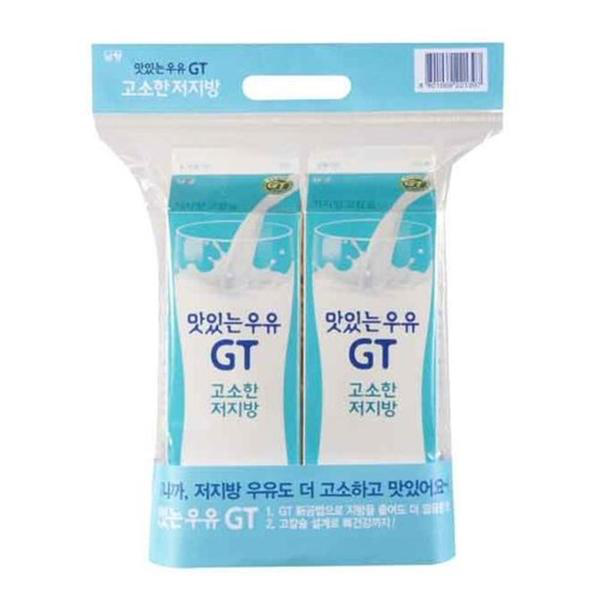milk: (168, 144, 442, 469)
